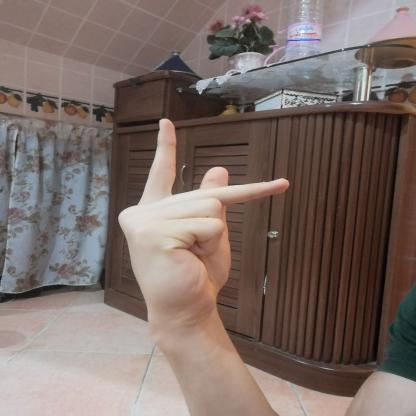DHAA: (101, 111, 301, 327)
